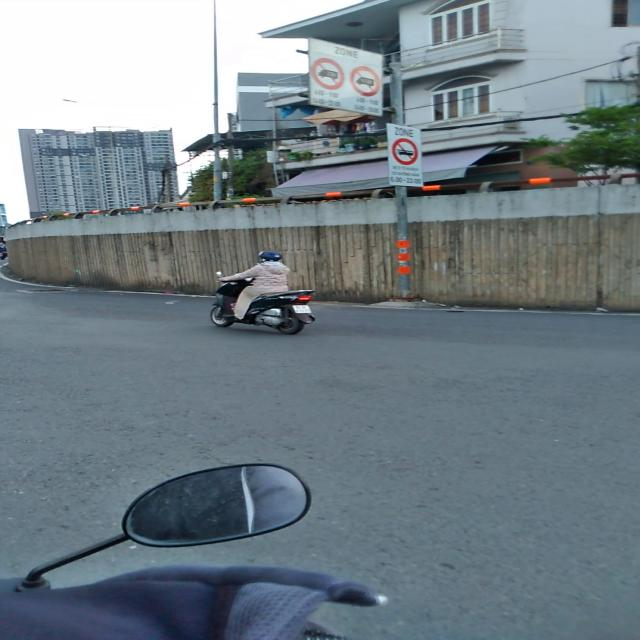Cam con lai: (310, 57, 345, 90), (349, 66, 381, 97), (392, 138, 419, 166)
